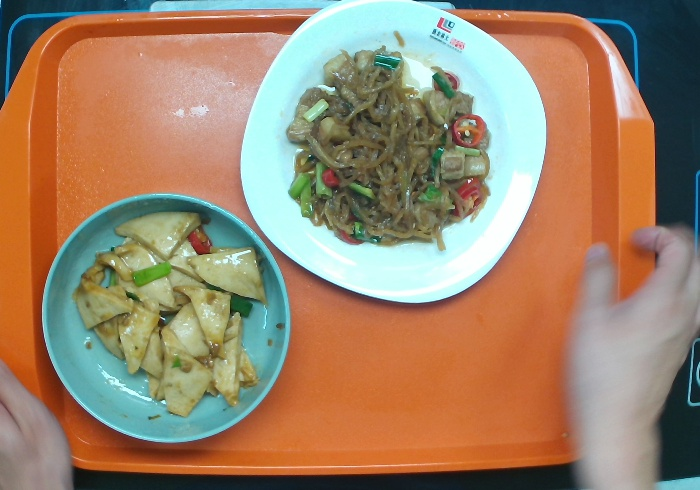ZNLD-Qing_Hua_Yuan_Wan: (32, 184, 296, 447)
ZNLD-Yuan_Jiao_Pan: (232, 1, 553, 310)
